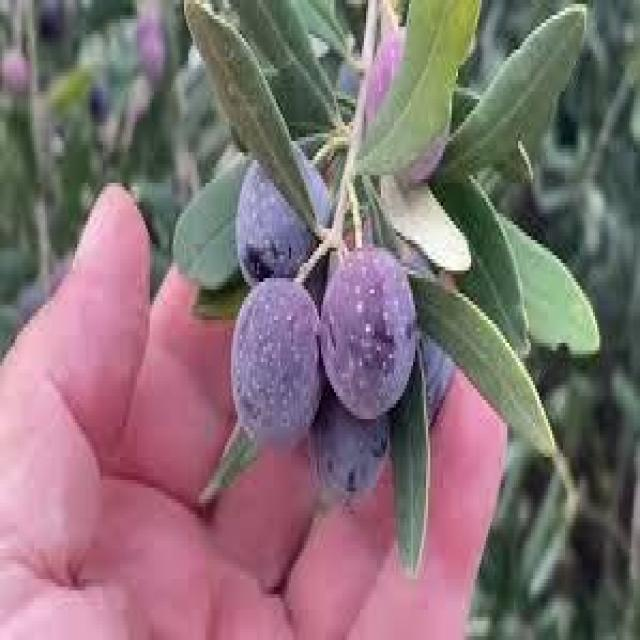Healthy: (321, 248, 417, 422), (229, 278, 323, 449)
